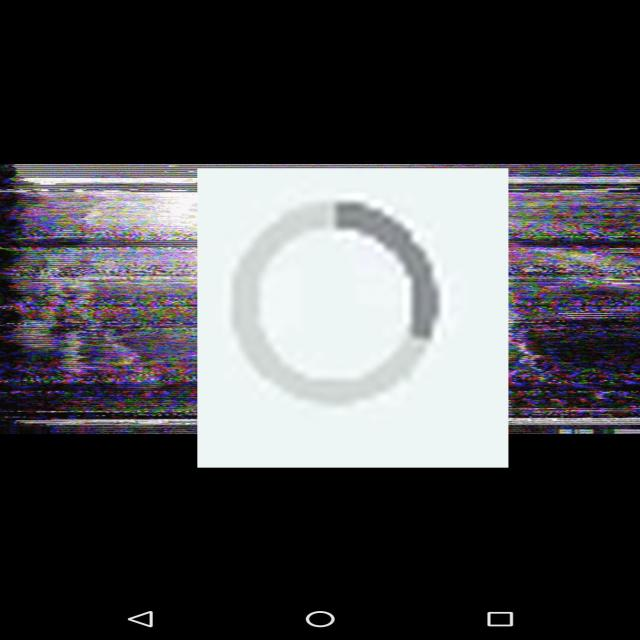misdirection: (197, 168, 508, 468)
